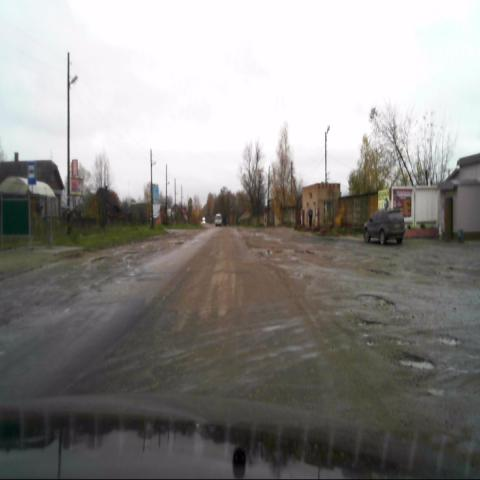5_16: (28, 161, 36, 185)
